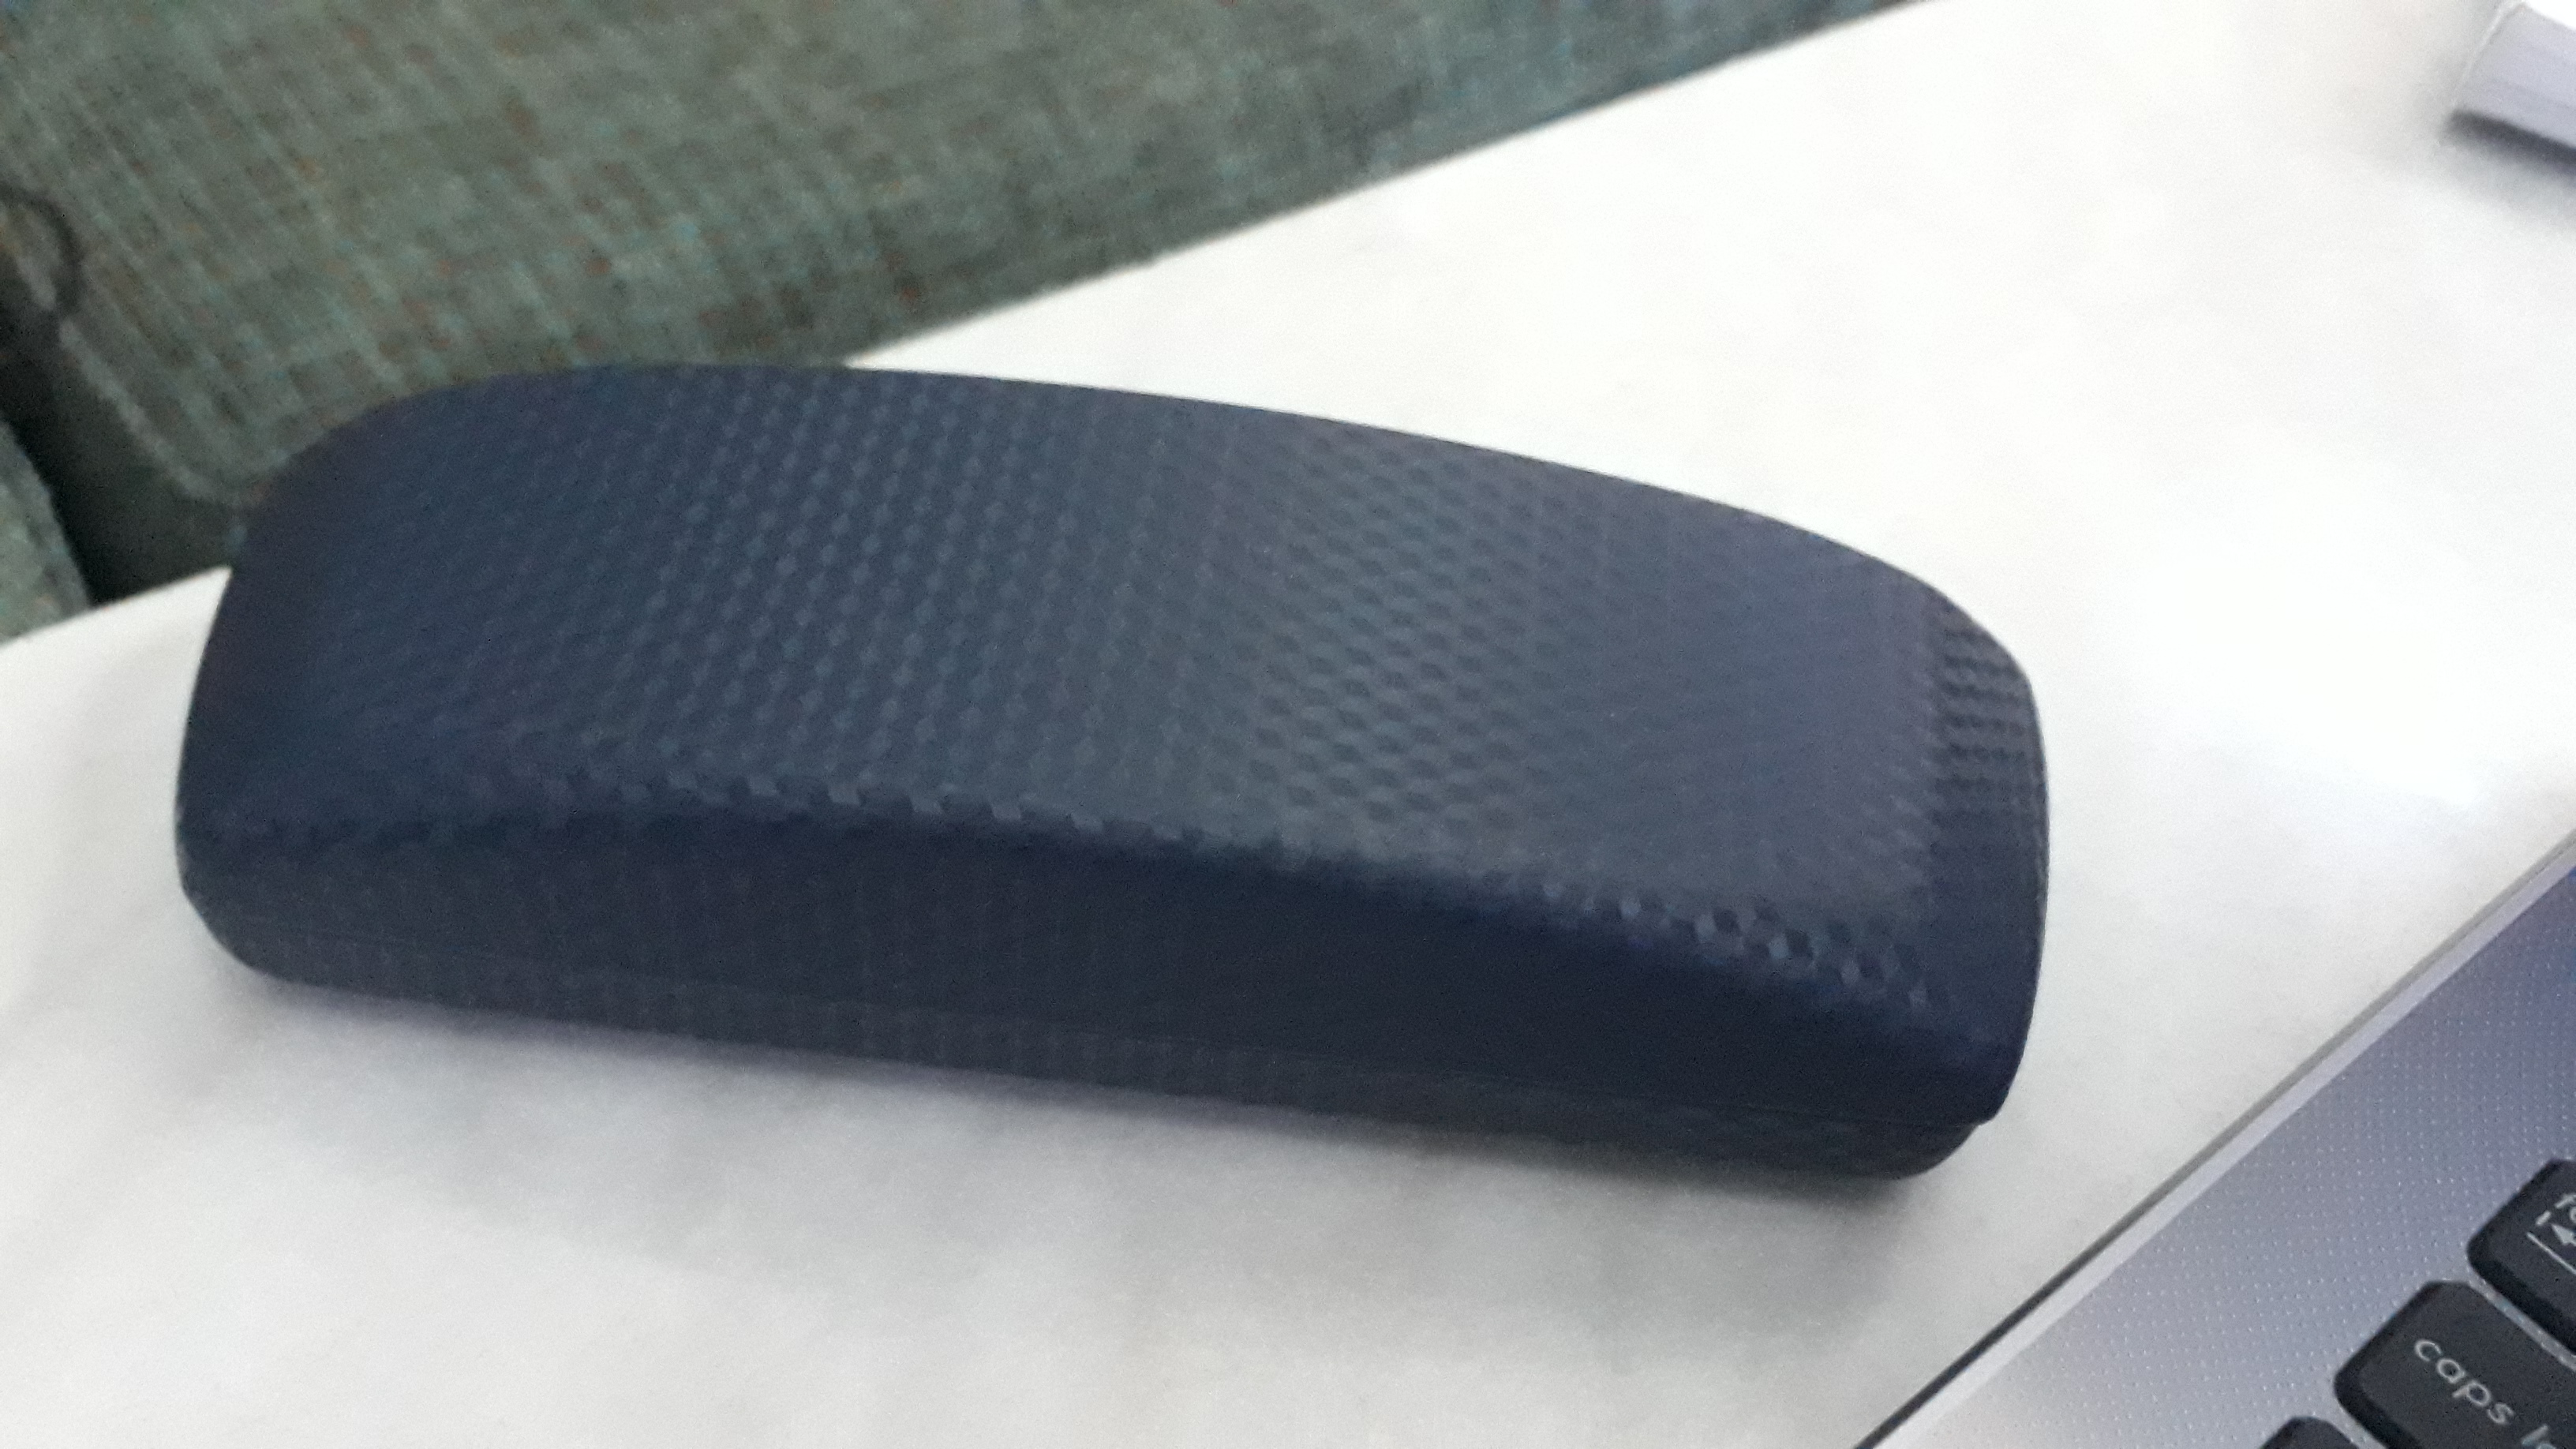nadar: (211, 322, 2052, 1233)
